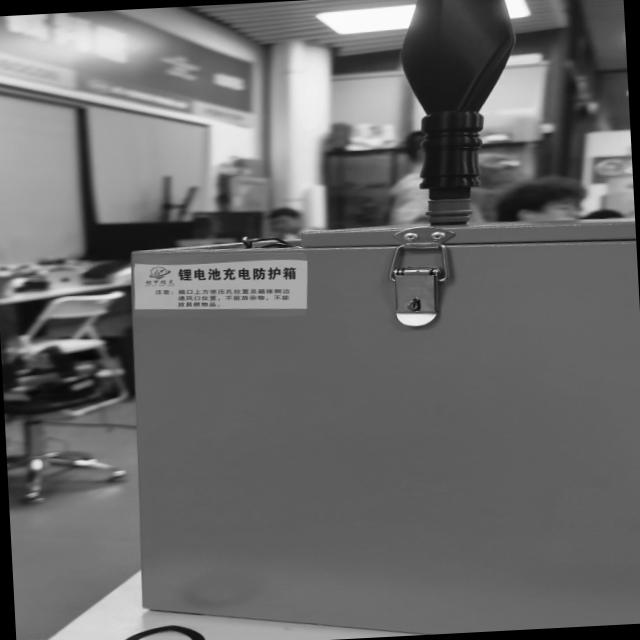base: (425, 196, 473, 225)
